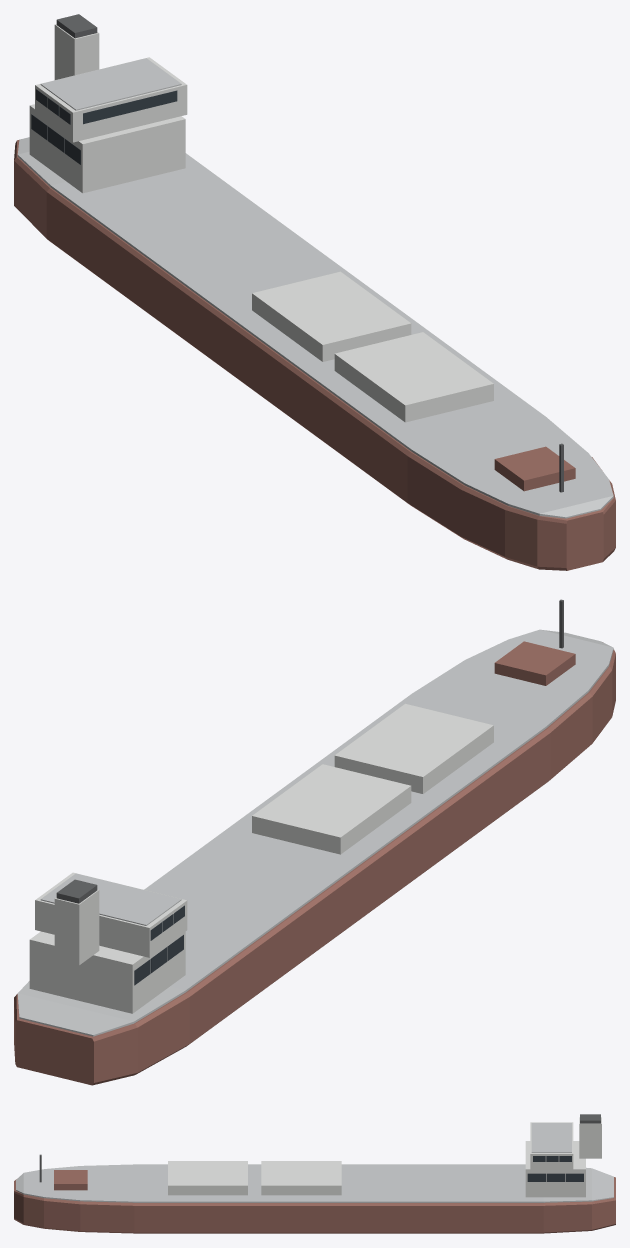
The model's file is vessel-cargo.glb.
3 views of the same model, one above another, from view 1: azimuth 30°, elevation 25°; view 2: azimuth 150°, elevation 25°; view 3: azimuth 270°, elevation 25° (orthographic). The views are drawn at different scales.
Parts seen in each view (by area): view 1: vessel-cargo; view 2: vessel-cargo; view 3: vessel-cargo.
Boxes of the visible parts, <box> form: vessel-cargo: <box>14,14,615,570</box>; vessel-cargo: <box>14,599,615,1085</box>; vessel-cargo: <box>14,1114,615,1233</box>.
Size of the model in its own units: 14 by 16 by 90.
